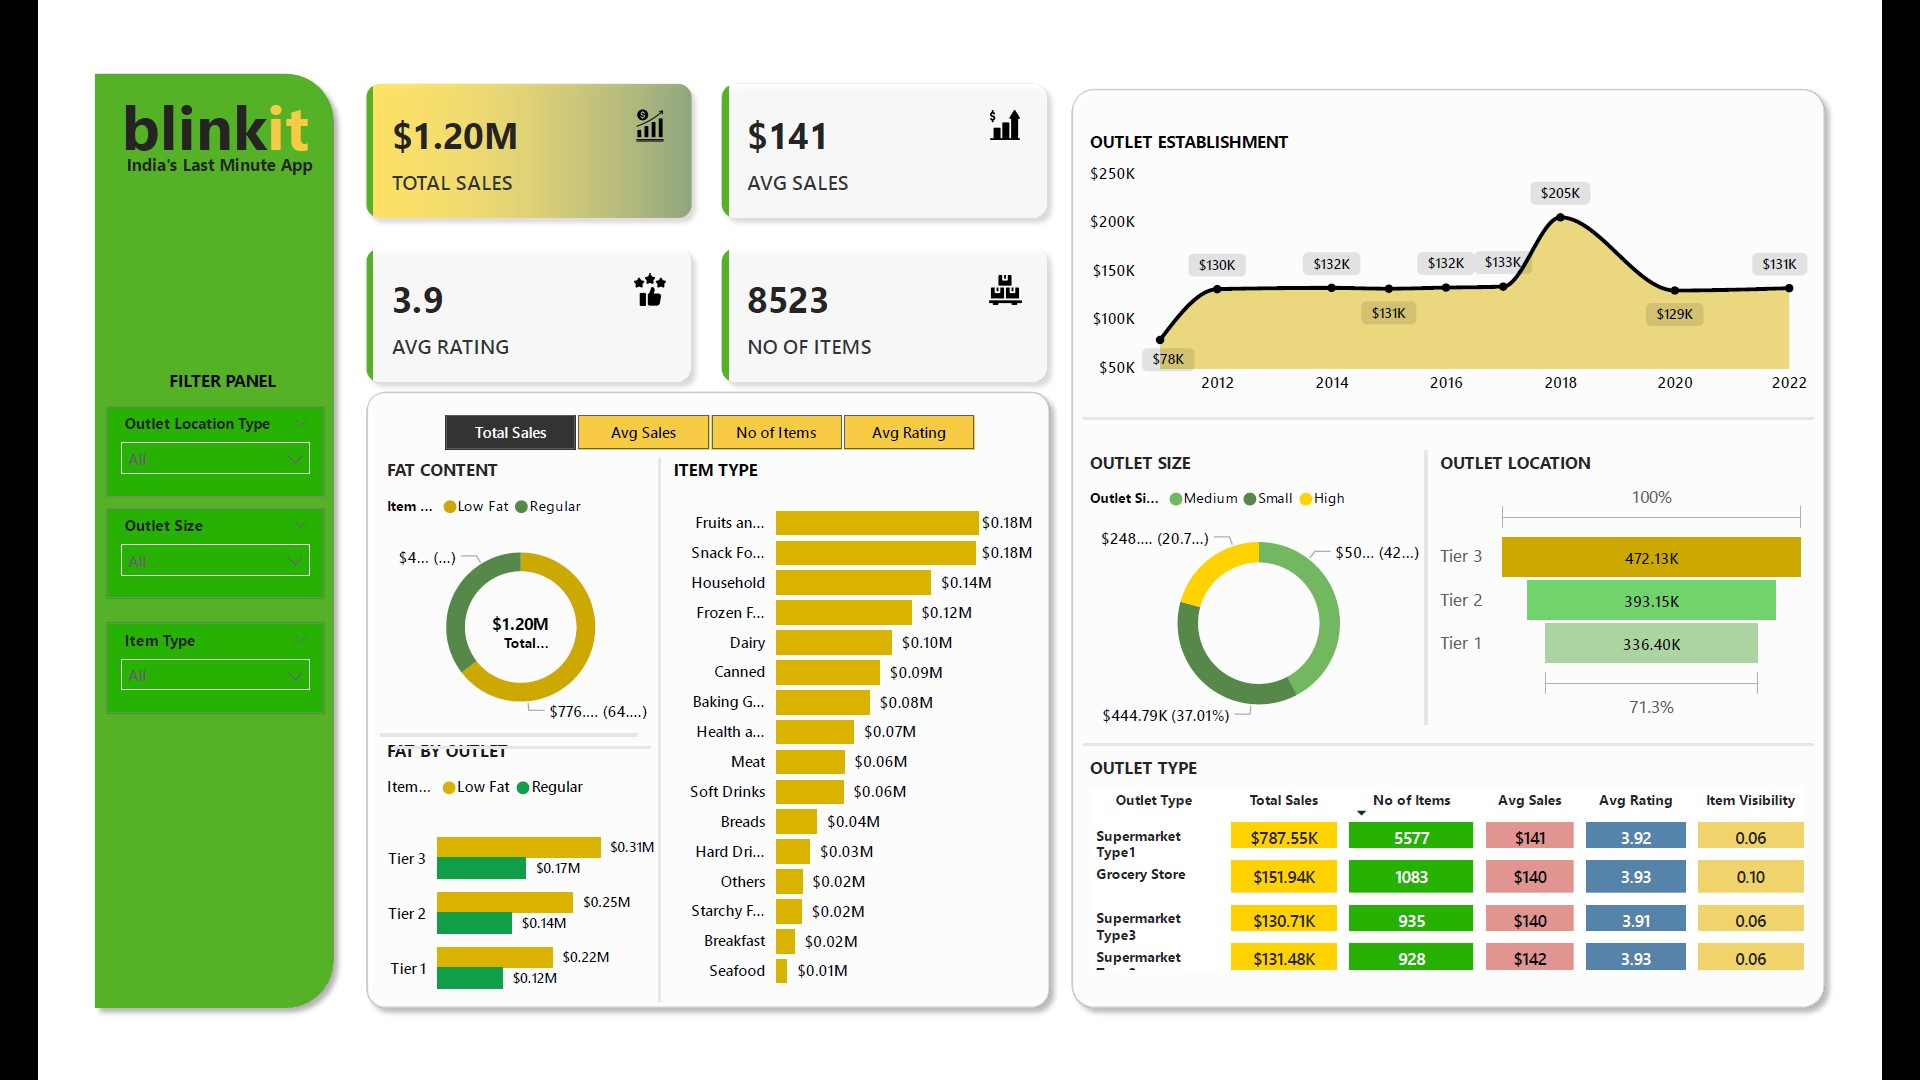

This screenshot's page, from the dashboard's own definition file:
{"tool":"powerbi","page":{"name":"Page 1","canvas":[1400,800],"ordinal":0},"visuals":[{"type":"shape","box":[12.4,24.9,204.1,750.9],"z":0},{"type":"textbox","box":[0,37.3,230.8,81.7],"z":1000},{"type":"textbox","box":[19.5,90.5,197,28.4],"z":2000},{"type":"cardVisual","fields":{"Data":["BlinkIT Grocery Data.Total Sales","BlinkIT Grocery Data.Avg Sales","BlinkIT Grocery Data.Avg Rating","BlinkIT Grocery Data.No of Items"]},"box":[216.6,24.9,569.8,269.8],"z":3000},{"type":"shape","box":[225.4,275.2,553.9,500.6],"z":4000},{"type":"donutChart","title":"FAT CONTENT","fields":{"Y":["BlinkIT Grocery Data.Total Sales"],"Category":["BlinkIT Grocery Data.Item Fat Content"]},"box":[245,335.5,220.1,220.1],"z":5000},{"type":"slicer","fields":{"Values":["Metrix.Metrix"]},"box":[269.8,294.7,465.1,40.8],"z":6000},{"type":"cardVisual","fields":{"Data":["BlinkIT Grocery Data.Total Sales"]},"box":[312.4,438.5,85.2,62.1],"z":7000},{"type":"clusteredBarChart","title":"FAT BY OUTLET","fields":{"Y":["BlinkIT Grocery Data.Total Sales"],"Category":["BlinkIT Grocery Data.Outlet Location Type"],"Series":["BlinkIT Grocery Data.Item Fat Content"]},"box":[245,555.6,220.1,220.1],"z":8000},{"type":"shape","box":[245,545,202.4,16],"z":9000},{"type":"shape","box":[458,335.5,12.4,426],"z":10000},{"type":"barChart","title":"ITEM TYPE","fields":{"Y":["BlinkIT Grocery Data.Total Sales"],"Category":["BlinkIT Grocery Data.Item Type"]},"box":[470.4,335.5,291.1,426],"z":11000},{"type":"shape","box":[779.3,37.3,608.9,738.5],"z":12000},{"type":"lineChart","title":"OUTLET ESTABLISHMENT","fields":{"Y":["BlinkIT Grocery Data.Total Sales"],"Category":["BlinkIT Grocery Data.Outlet Establishment Year"]},"box":[797.1,78.1,573.4,216.6],"z":13000},{"type":"shape","box":[797.1,294.7,573.4,19.5],"z":14000},{"type":"donutChart","title":"OUTLET SIZE","fields":{"Y":["BlinkIT Grocery Data.Total Sales"],"Category":["BlinkIT Grocery Data.Outlet Size"]},"box":[797.1,330.2,275.2,225.4],"z":15000},{"type":"shape","box":[1059.8,330.2,12.4,214.8],"z":16000},{"type":"funnel","title":"OUTLET LOCATION","fields":{"Category":["BlinkIT Grocery Data.Outlet Location Type"],"Y":["Sum(BlinkIT Grocery Data.Sales)"]},"box":[1072.2,330.2,298.2,214.8],"z":17000},{"type":"shape","box":[797.1,555.6,573.4,8.9],"z":18000},{"type":"pivotTable","title":"OUTLET TYPE","fields":{"Rows":["BlinkIT Grocery Data.Outlet Type"],"Values":["BlinkIT Grocery Data.Total Sales","BlinkIT Grocery Data.No of Items","BlinkIT Grocery Data.Avg Sales","BlinkIT Grocery Data.Avg Rating","Avg(BlinkIT Grocery Data.Item Visibility)"]},"box":[797.1,569.8,573.4,191.7],"z":19000},{"type":"slicer","fields":{"Values":["BlinkIT Grocery Data.Outlet Location Type"]},"box":[30.2,294.7,170.4,71],"z":20000},{"type":"shape","box":[255,555,202.4,16],"z":21000},{"type":"slicer","fields":{"Values":["BlinkIT Grocery Data.Outlet Size"]},"box":[30.2,374.6,170.4,71],"z":22000},{"type":"slicer","fields":{"Values":["BlinkIT Grocery Data.Item Type"]},"box":[30.2,465.1,170.4,71],"z":22001},{"type":"textbox","box":[40.8,261,159.8,33.7],"z":22002}]}

Visuals, with their boxes in screenshot pixels (x1, y1, x2, y2), scaled from the page's 1400x800 canvas onto the 1920x1080 screenshot:
shape: detection(17, 34, 297, 1047)
textbox: detection(0, 50, 317, 161)
textbox: detection(27, 122, 297, 161)
cardVisual - BlinkIT Grocery Data.Total Sales x BlinkIT Grocery Data.Avg Sales: detection(297, 34, 1078, 398)
shape: detection(309, 372, 1069, 1047)
"FAT CONTENT" donutChart: detection(336, 453, 638, 750)
slicer - Metrix.Metrix: detection(370, 398, 1008, 453)
cardVisual - BlinkIT Grocery Data.Total Sales: detection(428, 592, 545, 676)
"FAT BY OUTLET" clusteredBarChart: detection(336, 750, 638, 1047)
shape: detection(336, 736, 614, 757)
shape: detection(628, 453, 645, 1028)
"ITEM TYPE" barChart: detection(645, 453, 1044, 1028)
shape: detection(1069, 50, 1904, 1047)
"OUTLET ESTABLISHMENT" lineChart: detection(1093, 105, 1880, 398)
shape: detection(1093, 398, 1880, 424)
"OUTLET SIZE" donutChart: detection(1093, 446, 1471, 750)
shape: detection(1453, 446, 1470, 736)
"OUTLET LOCATION" funnel: detection(1470, 446, 1879, 736)
shape: detection(1093, 750, 1880, 762)
"OUTLET TYPE" pivotTable: detection(1093, 769, 1880, 1028)
slicer - BlinkIT Grocery Data.Outlet Location Type: detection(41, 398, 275, 494)
shape: detection(350, 749, 627, 771)
slicer - BlinkIT Grocery Data.Outlet Size: detection(41, 506, 275, 602)
slicer - BlinkIT Grocery Data.Item Type: detection(41, 628, 275, 724)
textbox: detection(56, 352, 275, 398)
